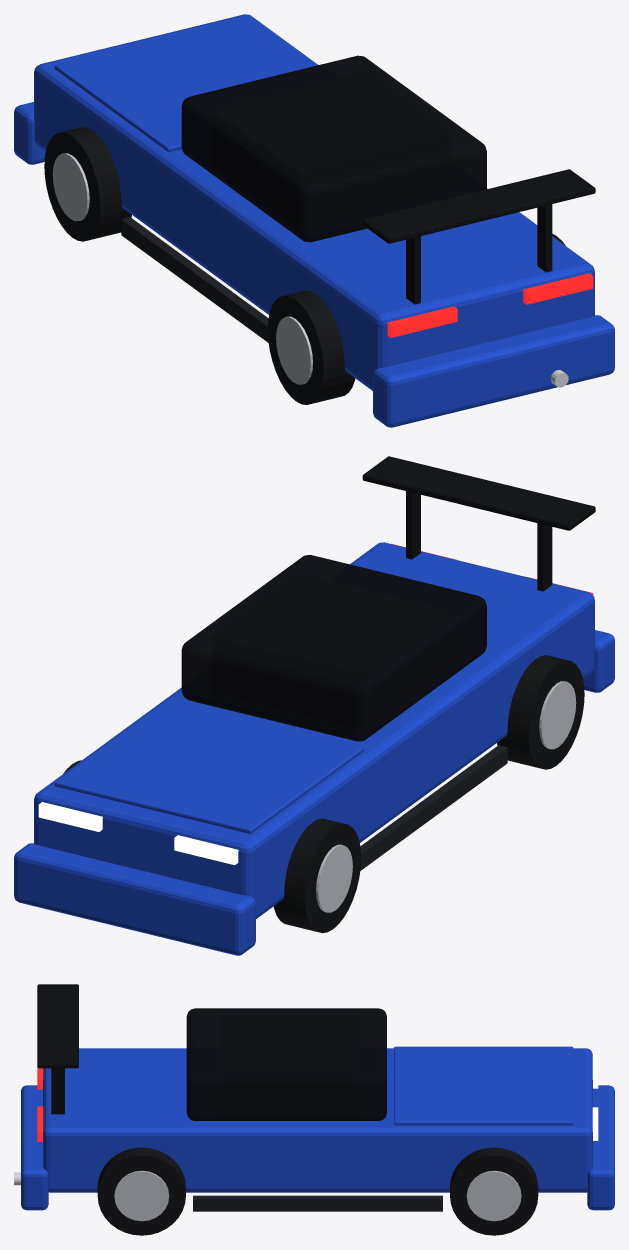
The picture shows the model from 3 angles, top to bottom: view 1: azimuth 30°, elevation 25°; view 2: azimuth 150°, elevation 25°; view 3: azimuth 270°, elevation 25°; orthographic projection. The views are drawn at different scales.
Visible parts, largest first — view 1: body, glass, hood, bumper_rear, spoiler, wheel_RL, wheel_FL, skirts, interior_low, lights_rear, bumper_front; view 2: body, glass, hood, bumper_front, spoiler, wheel_FL, wheel_RL, interior_low, skirts, lights_front, bumper_rear; view 3: body, glass, hood, wheel_FR, wheel_RR, skirts, spoiler, bumper_front, bumper_rear, interior_low, lights_front, lights_rear.
Part boxes in pixels (x1,y1,x2,y2): body: [34, 14, 594, 390]; glass: [181, 55, 486, 242]; hood: [54, 17, 315, 151]; bumper_rear: [373, 315, 614, 427]; spoiler: [362, 169, 595, 304]; wheel_RL: [267, 290, 355, 404]; wheel_FL: [44, 127, 131, 241]; skirts: [121, 217, 268, 342]; interior_low: [212, 71, 451, 223]; lights_rear: [387, 273, 593, 337]; bumper_front: [14, 102, 45, 164]; body: [34, 542, 594, 918]; glass: [181, 555, 486, 741]; hood: [54, 699, 364, 833]; bumper_front: [14, 843, 255, 955]; spoiler: [362, 456, 595, 591]; wheel_FL: [273, 818, 361, 933]; wheel_RL: [497, 655, 584, 769]; interior_low: [212, 583, 451, 728]; skirts: [360, 745, 507, 870]; lights_front: [38, 802, 238, 865]; bumper_rear: [583, 630, 614, 692]; body: [43, 1048, 592, 1192]; glass: [186, 1008, 386, 1120]; hood: [394, 1046, 573, 1125]; wheel_FR: [450, 1147, 538, 1235]; wheel_RR: [97, 1147, 185, 1235]; skirts: [193, 1195, 442, 1211]; spoiler: [37, 984, 78, 1114]; bumper_front: [587, 1085, 614, 1210]; bumper_rear: [21, 1085, 48, 1210]; interior_low: [222, 1016, 358, 1116]; lights_front: [592, 1055, 598, 1140]; lights_rear: [37, 1067, 43, 1141].
Size of what is drawn, in the model's own units: 1.75 by 1.29 by 4.35.
